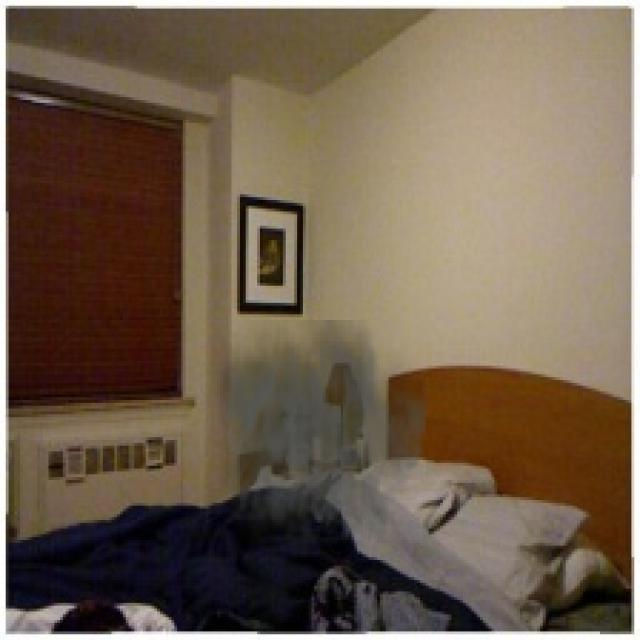Smoke: (206, 321, 426, 568)
